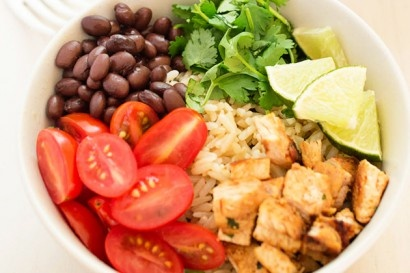background: (22, 0, 249, 116)
